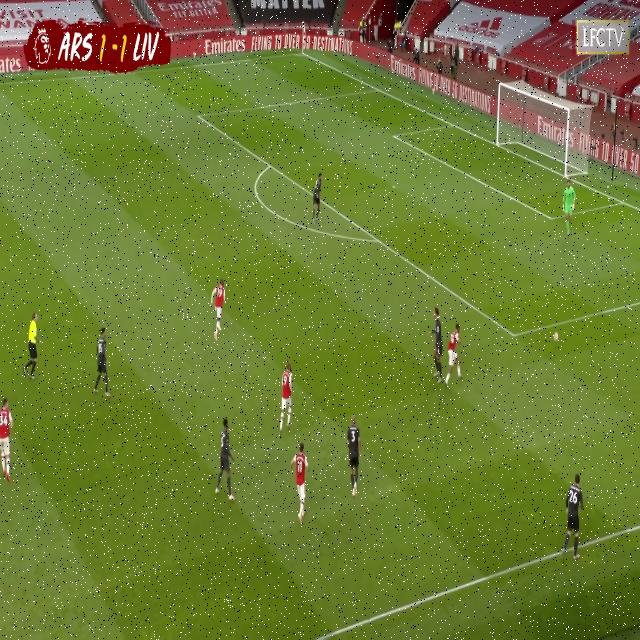Ball: (554, 333, 559, 343)
GoalKeeper: (562, 180, 578, 237)
TEAM 1: (290, 443, 308, 525), (1, 398, 14, 484), (280, 365, 295, 439), (446, 319, 462, 386), (212, 279, 226, 343)
TEAM 2: (563, 475, 587, 561), (215, 418, 236, 503), (346, 416, 364, 499), (93, 328, 111, 399), (431, 307, 446, 387), (312, 172, 324, 222)
